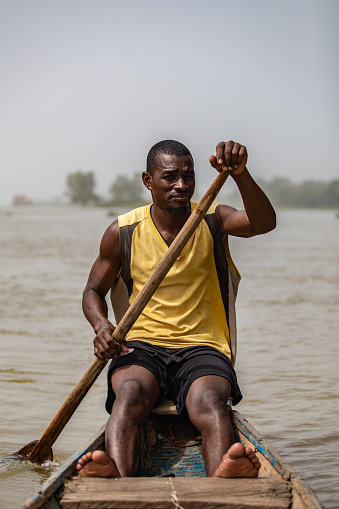person: (70, 121, 285, 478)
